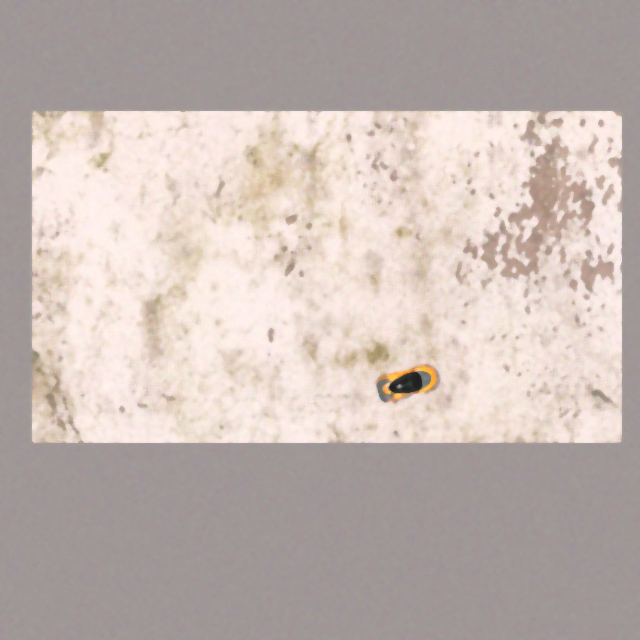car: (373, 361, 442, 406)
